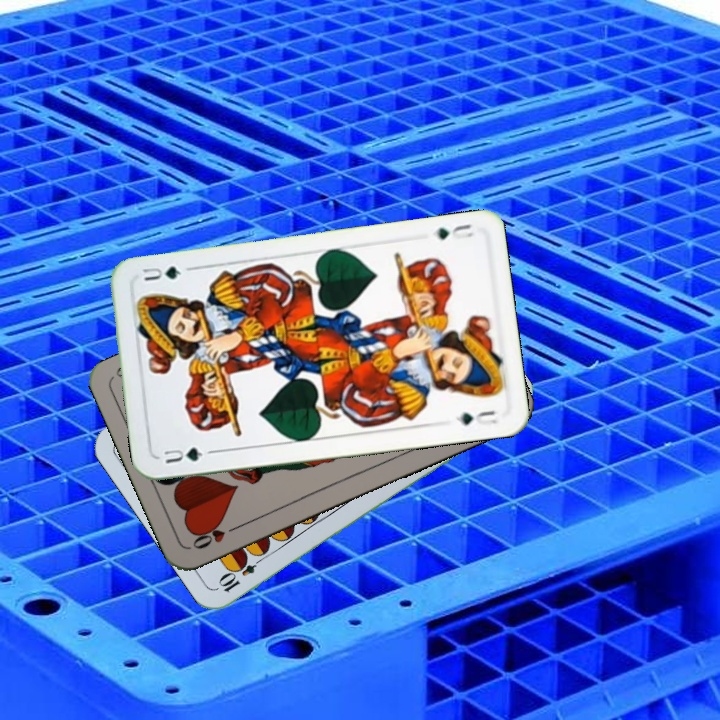E10: (215, 550, 268, 595)
GU: (160, 443, 215, 467), (432, 220, 476, 242)
HO: (188, 520, 243, 552)
